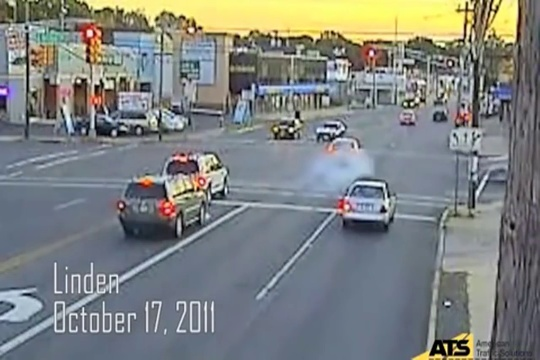car: (119, 178, 208, 242), (343, 174, 394, 228), (162, 154, 235, 188), (83, 118, 129, 145), (113, 110, 159, 132), (330, 137, 363, 156), (272, 120, 303, 137), (317, 119, 344, 137), (400, 110, 418, 126), (431, 107, 445, 120), (402, 98, 418, 106)
